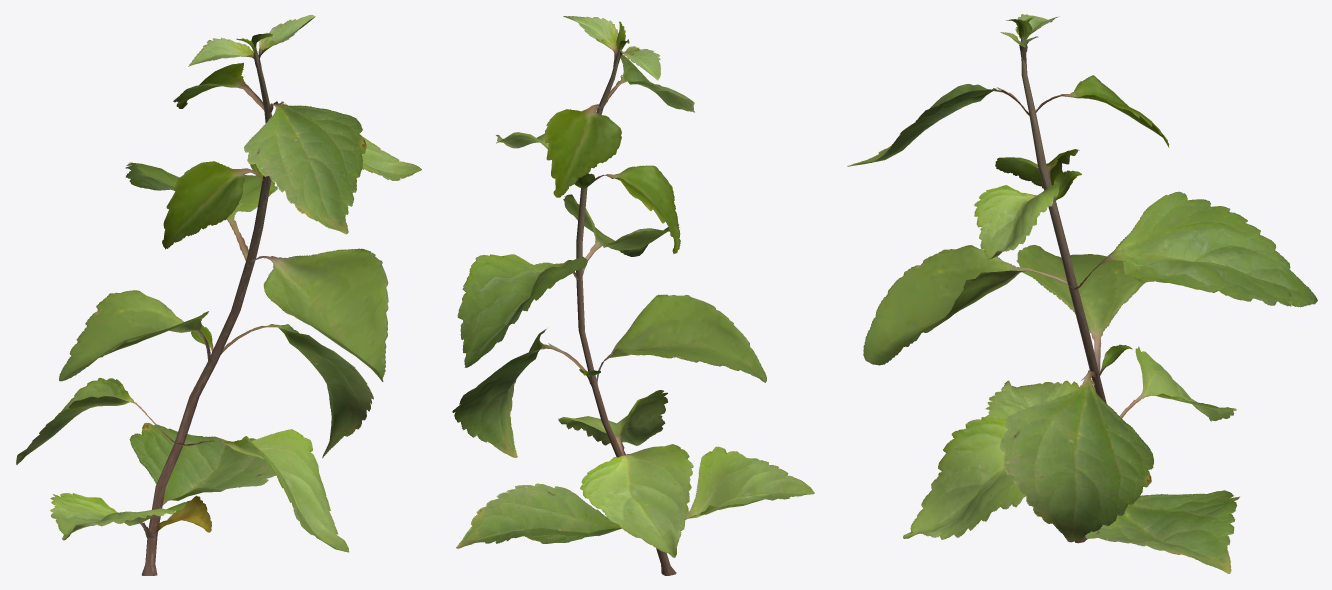
3 views of the same model, side by side, from view 1: azimuth 30°, elevation 25°; view 2: azimuth 150°, elevation 25°; view 3: azimuth 270°, elevation 25° (orthographic). The views are drawn at different scales.
Parts seen in each view (by area): view 1: shrub_01__d_lod0; view 2: shrub_01__d_lod0; view 3: shrub_01__d_lod0.
Boxes of the visible parts, x1,y1,x2,y2 form: shrub_01__d_lod0: [16, 15, 421, 575]; shrub_01__d_lod0: [452, 16, 814, 575]; shrub_01__d_lod0: [847, 14, 1317, 573].
Size of the model in its own units: 0.1354 by 0.2006 by 0.1523.
1 material, 1 textured.
